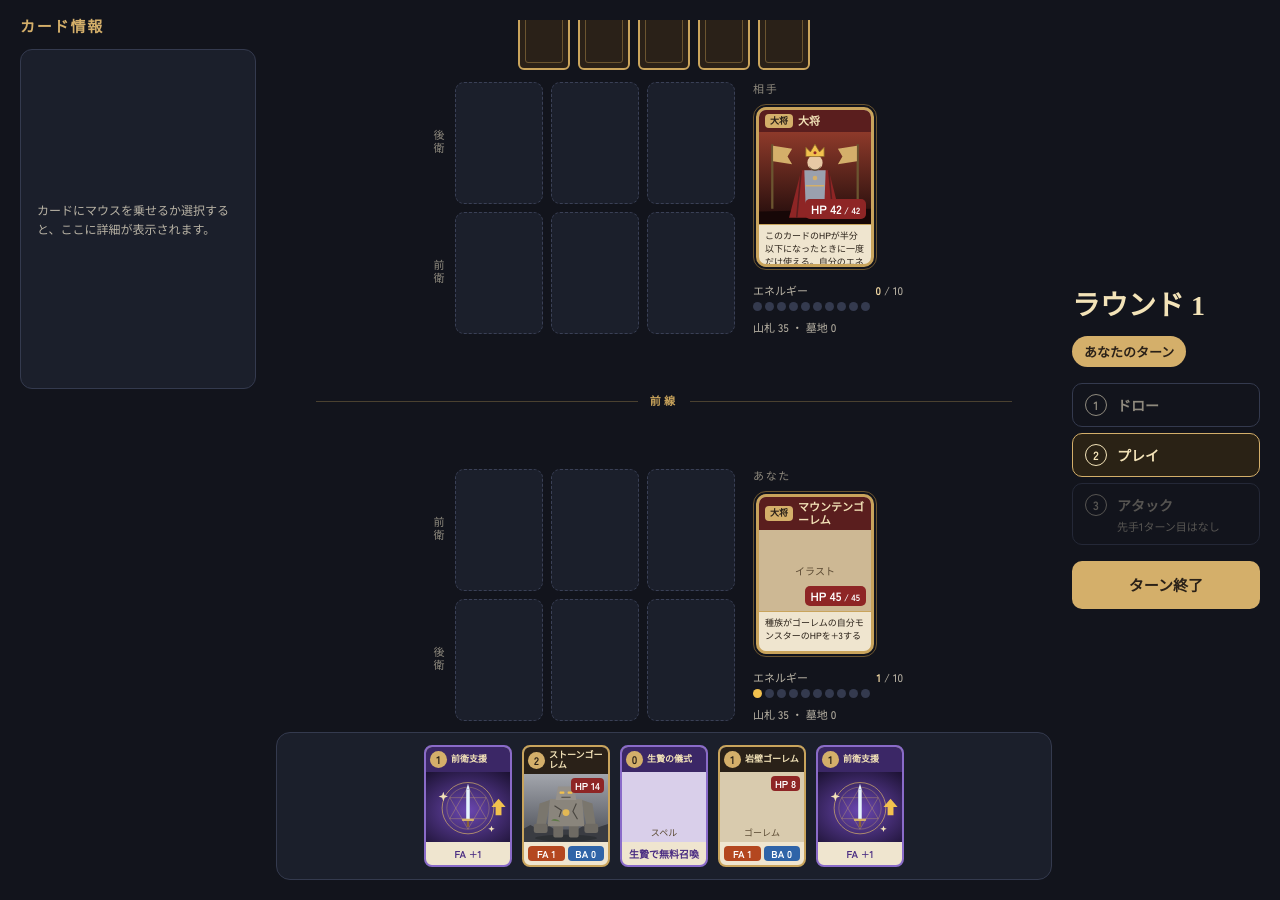
Test: GameBoard › hides the opponent hand and lets the AI take its turn
Expected: the number of elements with class "card-back" is 5, [518,20,570,70]; [578,20,630,70]; [638,20,690,70]; [698,20,750,70]; [758,20,810,70]
Click the button "ターン終了".
click(1166, 584)  # box [1072,560,1260,608]
Wait 3500 ms
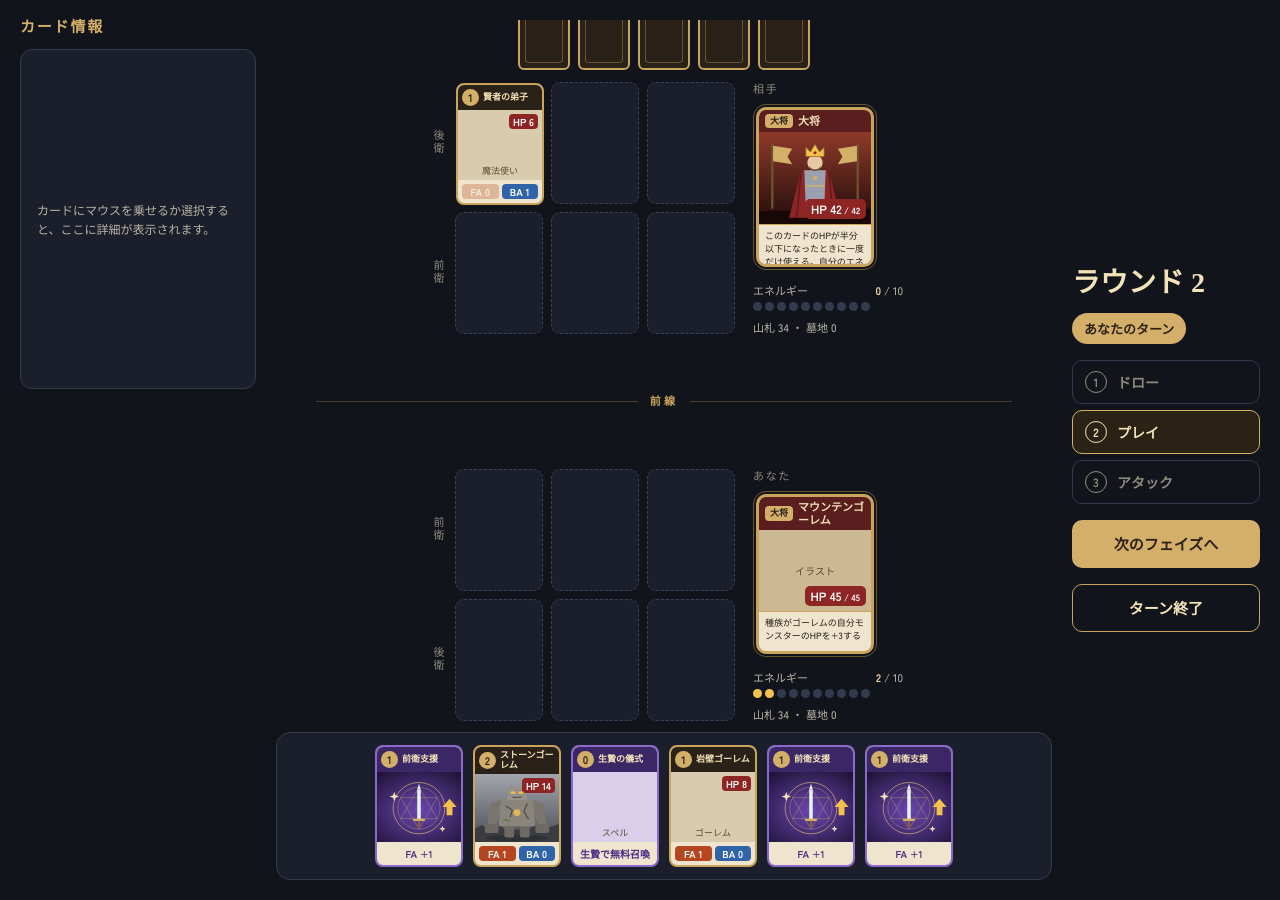
Expected: the text "あなたのターン" is shown, [1072,312,1186,344]
Result: the text "ラウンド 2" is shown at [1072,266,1205,298]
